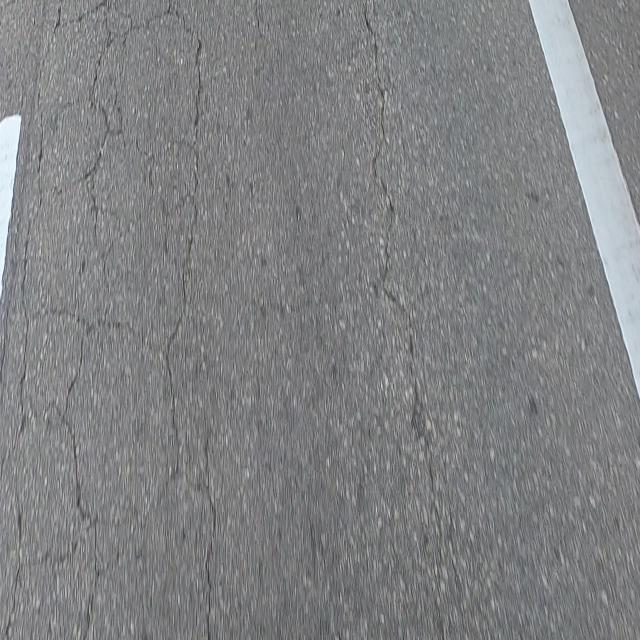Retak-Buaya: (4, 0, 227, 640)
Retak-Memanjang: (359, 3, 437, 507)
